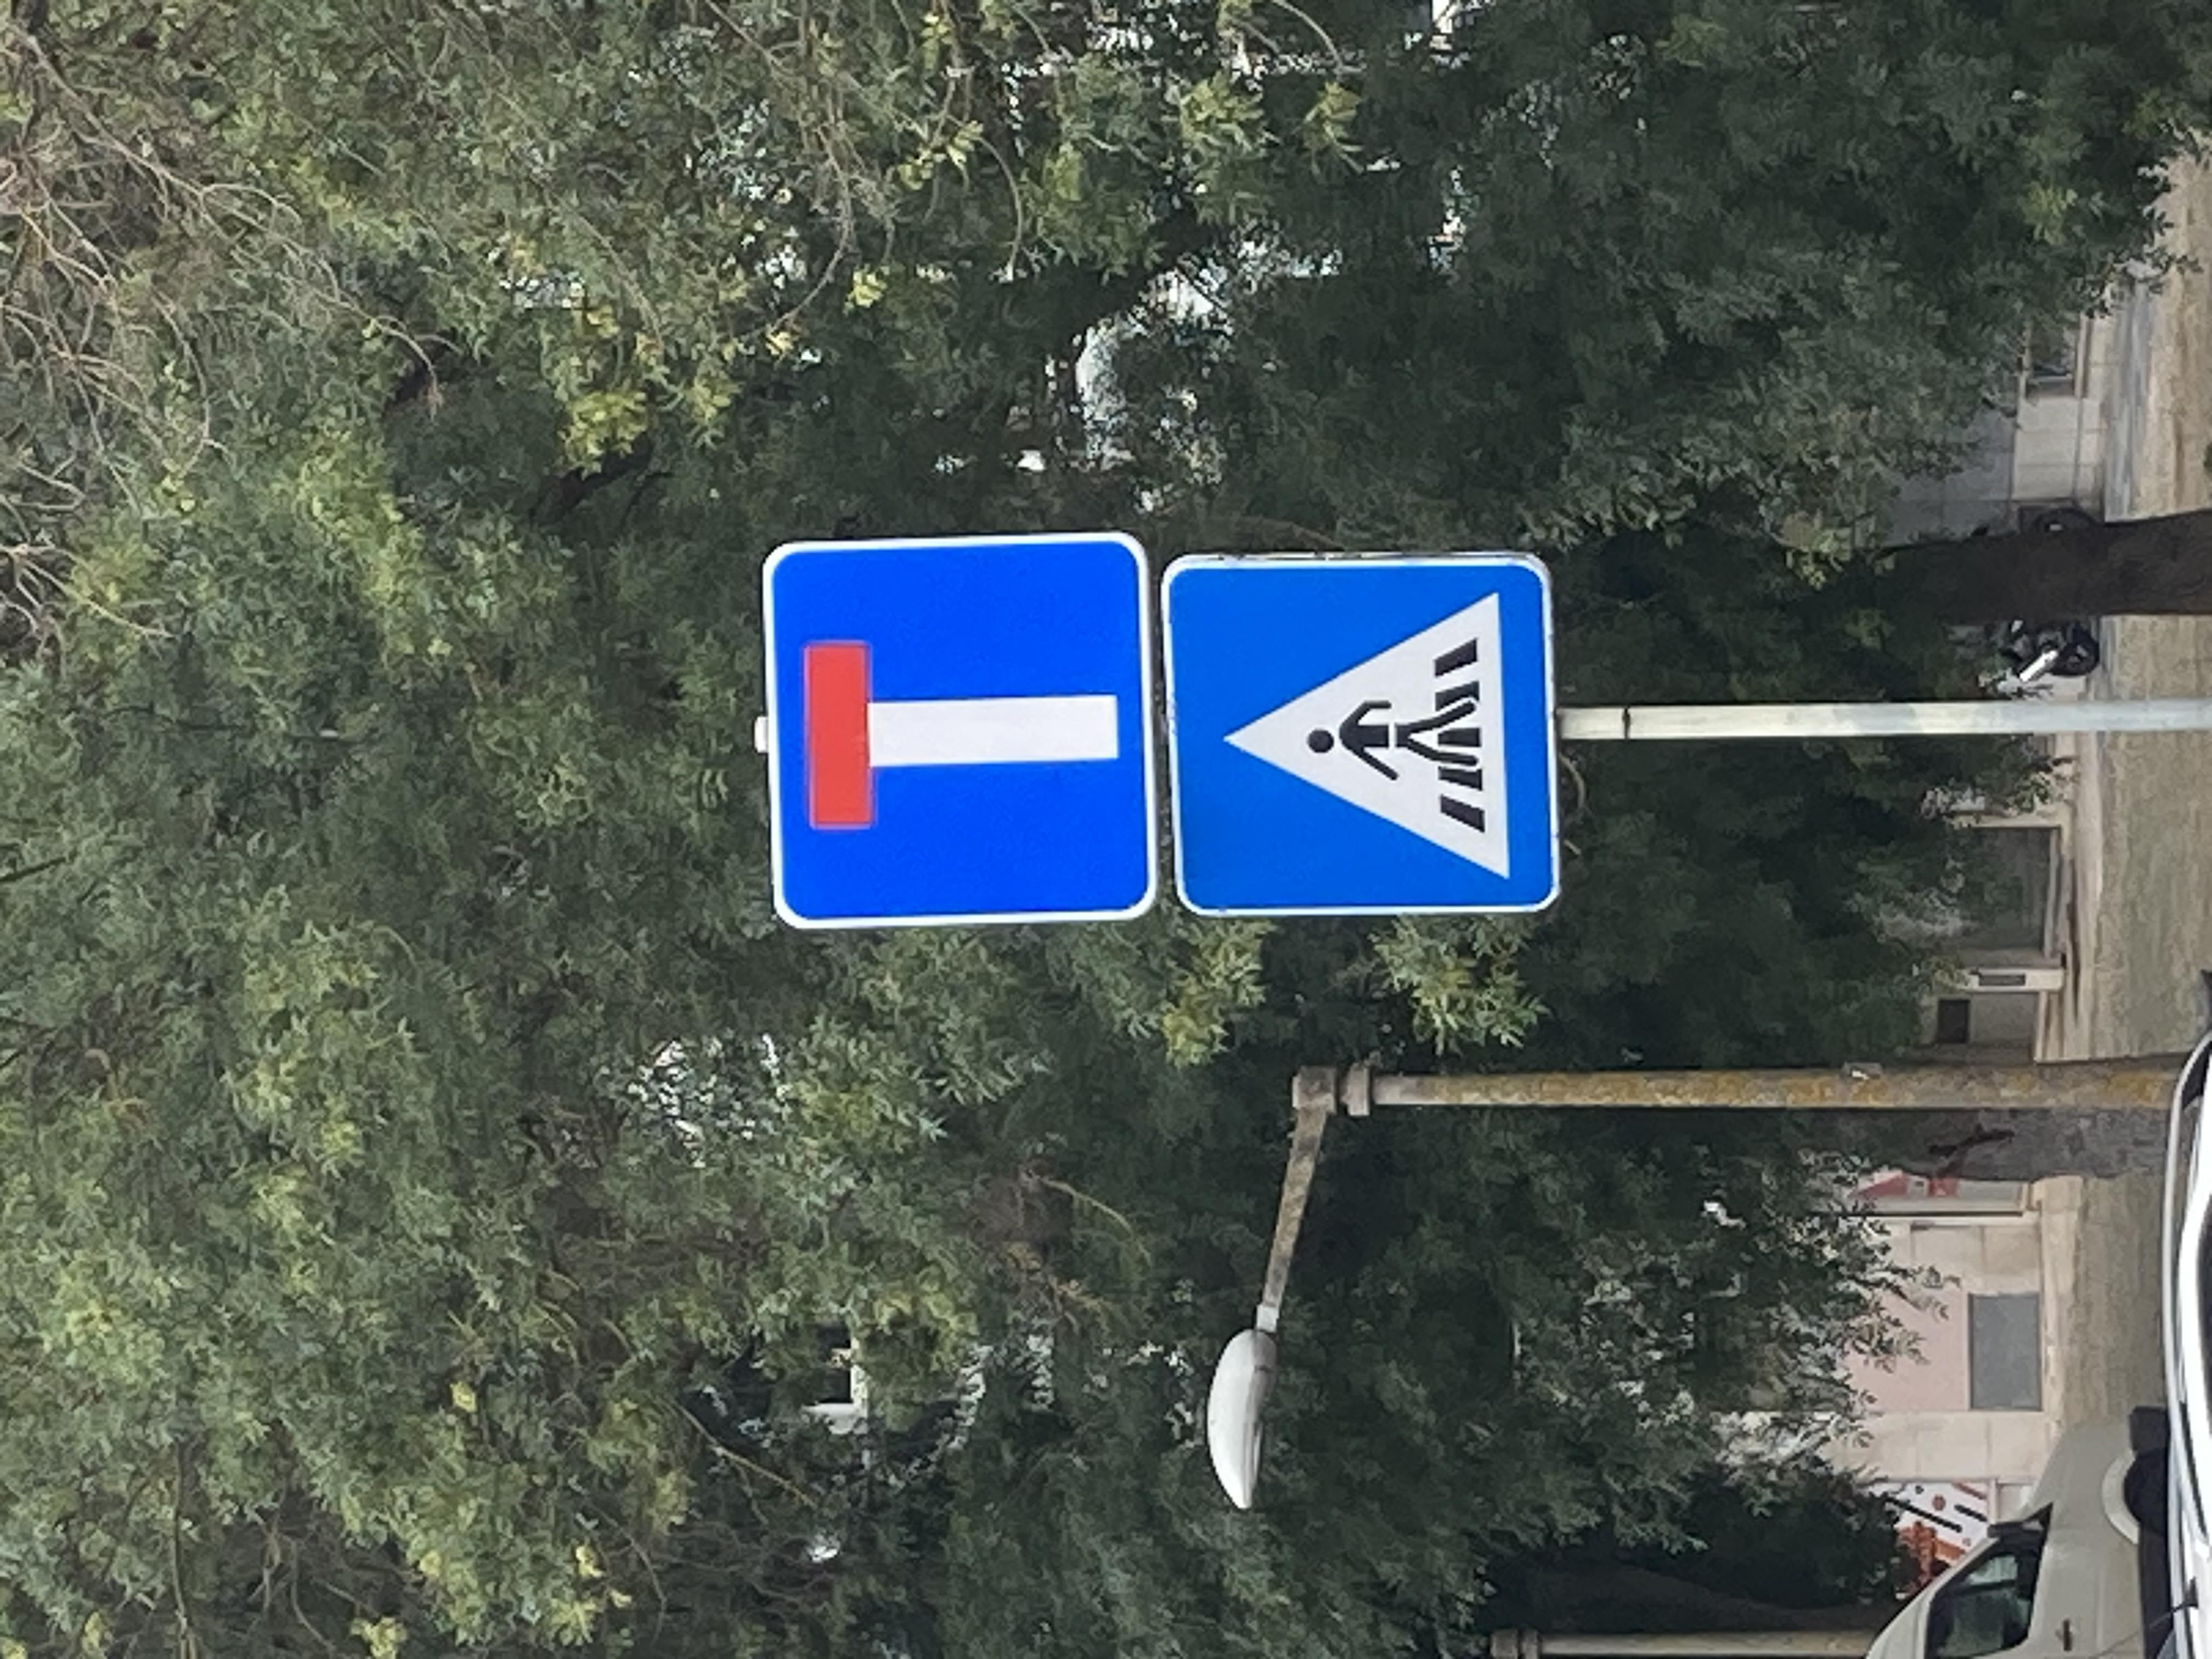Via publica sem saida: (951, 558, 1500, 873)
passagem de peoes: (993, 866, 1470, 1176)
